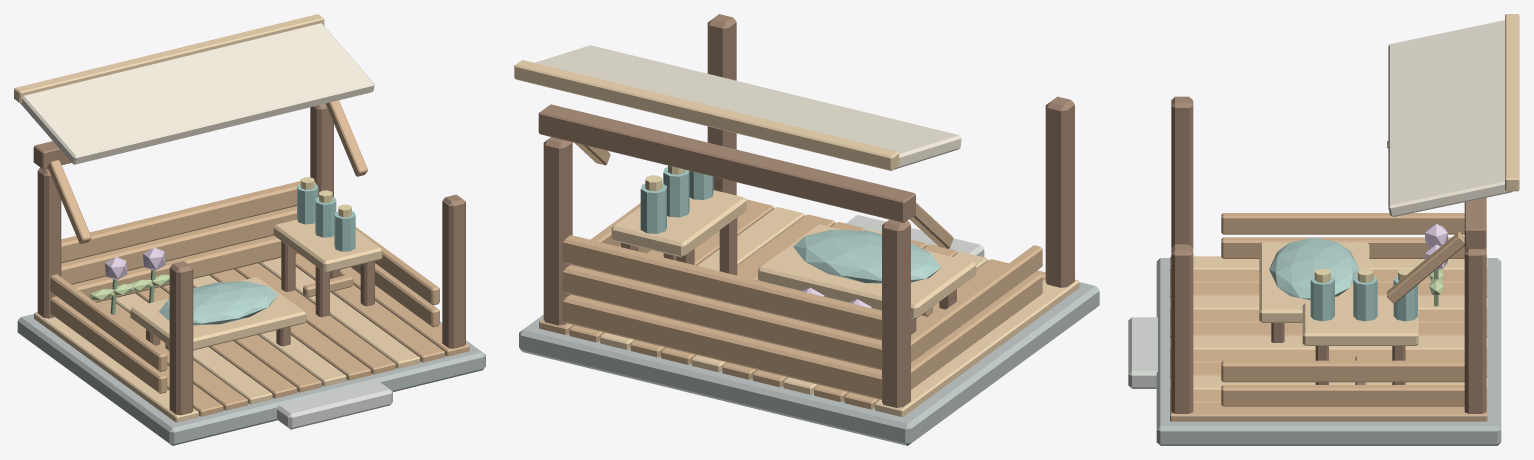
Rendered from healing_tent.fbx.
The picture shows the model from 3 angles, left to right: view 1: azimuth 30°, elevation 25°; view 2: azimuth 150°, elevation 25°; view 3: azimuth 270°, elevation 25°; orthographic projection. The views are drawn at different scales.
Visible parts, largest first — view 1: healing_tent_mesh; view 2: healing_tent_mesh; view 3: healing_tent_mesh.
Part boxes in pixels (left/top/right/bottom): healing_tent_mesh: left=14, top=14, right=485, bottom=445; healing_tent_mesh: left=514, top=14, right=1099, bottom=445; healing_tent_mesh: left=1128, top=14, right=1519, bottom=445.
Bounding box in the file's own units: 3.32 × 2.4 × 3.2.
